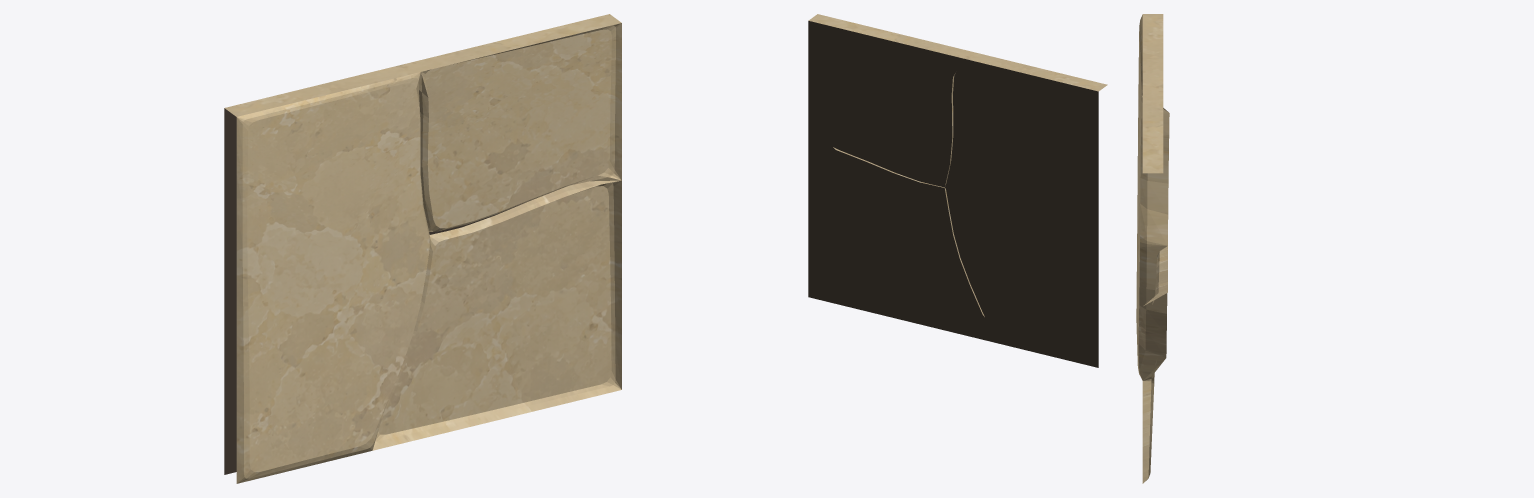
The model's file is ground_edge_02.glb.
3 renders of one model, left to right at view 1: azimuth 30°, elevation 25°; view 2: azimuth 150°, elevation 25°; view 3: azimuth 270°, elevation 25°, orthographic. The views are drawn at different scales.
Parts seen in each view (by area): view 1: GroundEdge02_Body; view 2: GroundEdge02_Body; view 3: GroundEdge02_Body.
Part boxes in pixels (x1,y1,x2,y2): GroundEdge02_Body: (224, 14, 621, 483); GroundEdge02_Body: (808, 14, 1107, 367); GroundEdge02_Body: (1136, 14, 1169, 483).
Size of the model in its own units: 1 by 0.91 by 1.02.
Materials: 5 (4 with a texture image).
